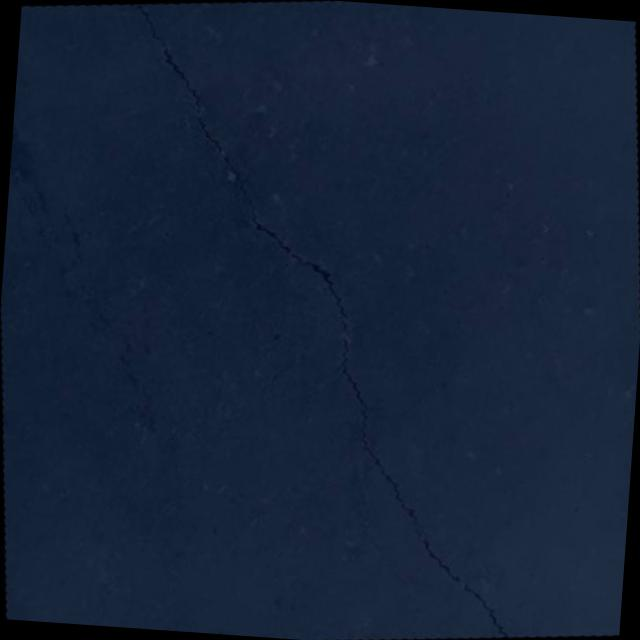crack: (84, 0, 550, 640)
